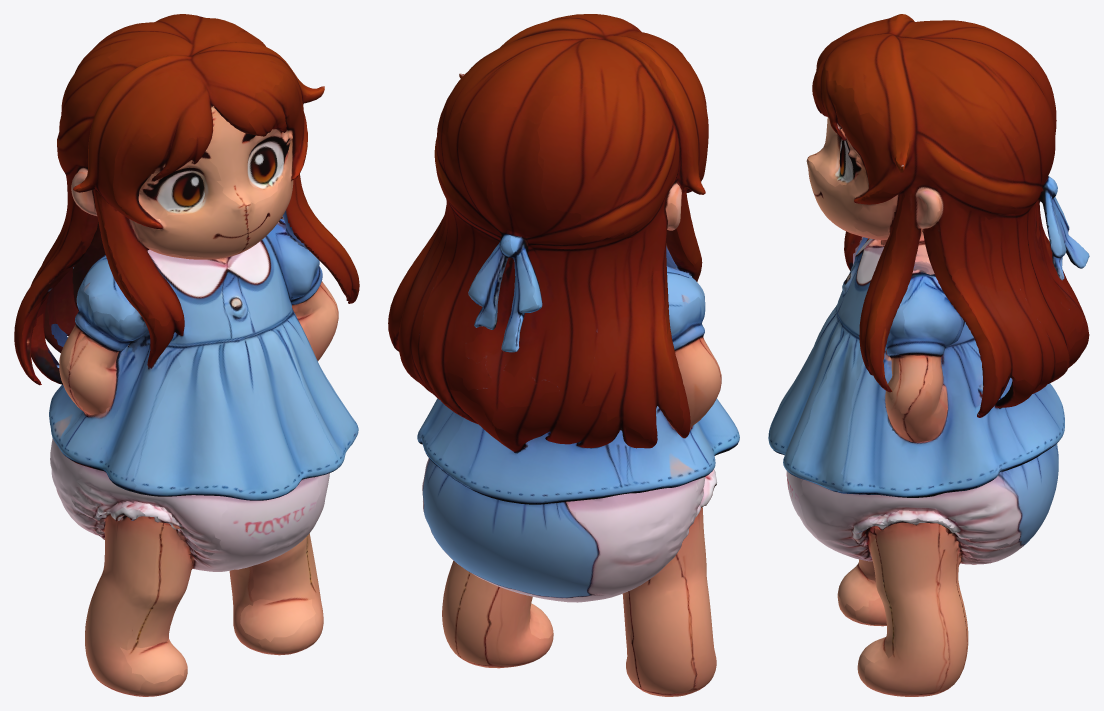
File: natdoll.glb
The picture shows the model from 3 angles, left to right: view 1: azimuth 30°, elevation 25°; view 2: azimuth 150°, elevation 25°; view 3: azimuth 270°, elevation 25°; orthographic projection. The views are drawn at different scales.
Parts seen in each view (by area): view 1: temp_mesh.ply; view 2: temp_mesh.ply; view 3: temp_mesh.ply.
Part boxes in pixels (<box>): temp_mesh.ply: <box>14,14,359,696</box>; temp_mesh.ply: <box>388,14,739,696</box>; temp_mesh.ply: <box>768,14,1089,696</box>.
Size of the model in its own units: 0.9545 by 1.97 by 0.9372.
1 material, 1 textured.
